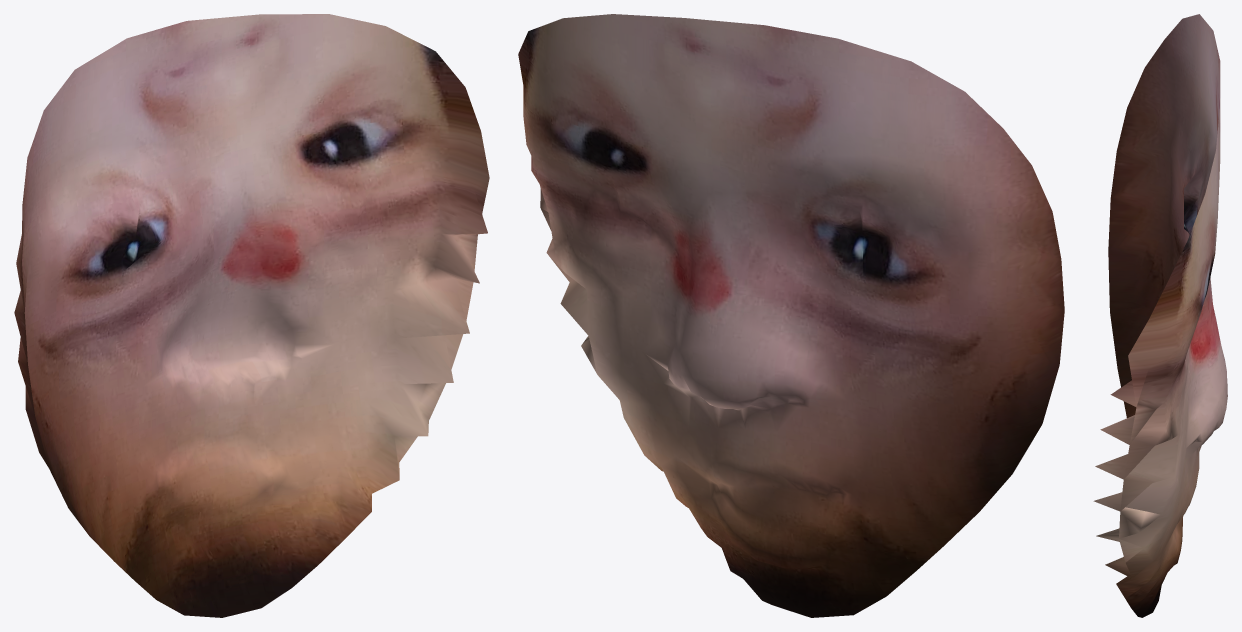
The model's file is 78514758-337d-4f45-b74c-ab850633fab4.glb.
The picture shows the model from 3 angles, left to right: view 1: azimuth 30°, elevation 25°; view 2: azimuth 150°, elevation 25°; view 3: azimuth 270°, elevation 25°; orthographic projection. The views are drawn at different scales.
Visible parts, largest first — view 1: Face; view 2: Face; view 3: Face.
Part boxes in pixels (x1,y1,x2,y2): Face: (14, 14, 489, 617); Face: (518, 14, 1064, 617); Face: (1093, 14, 1227, 617).
Bounding box in the file's own units: 0.1101 × 0.1264 × 0.0284.
Materials: 1 (1 with a texture image).
